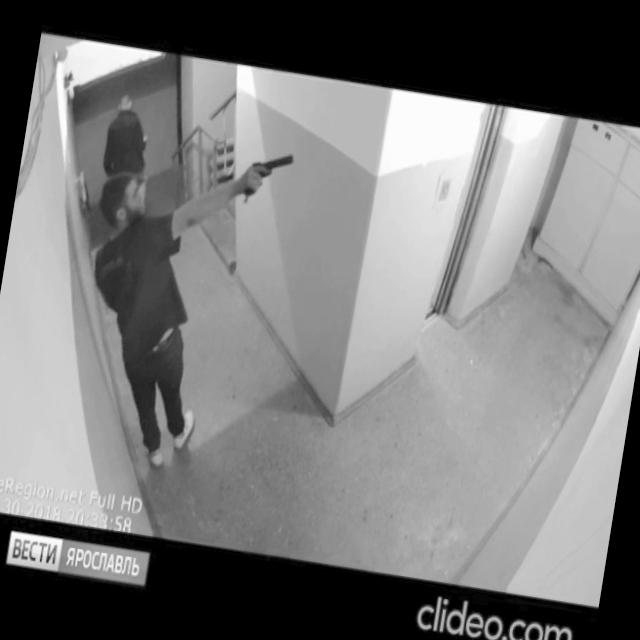gun: (241, 145, 296, 206)
person: (90, 88, 164, 240)
person with a gun: (56, 122, 296, 486)
